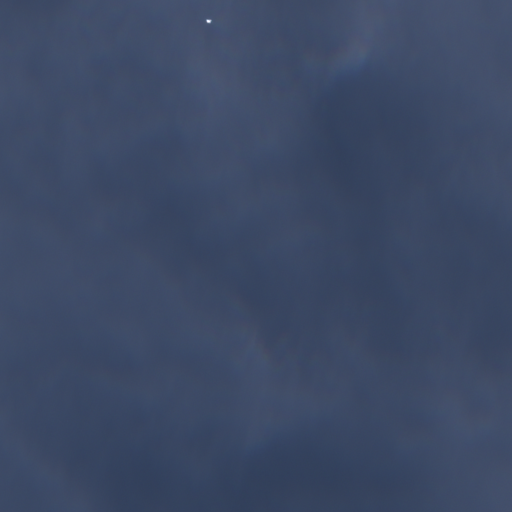Iceberg: (206, 19, 211, 23)
